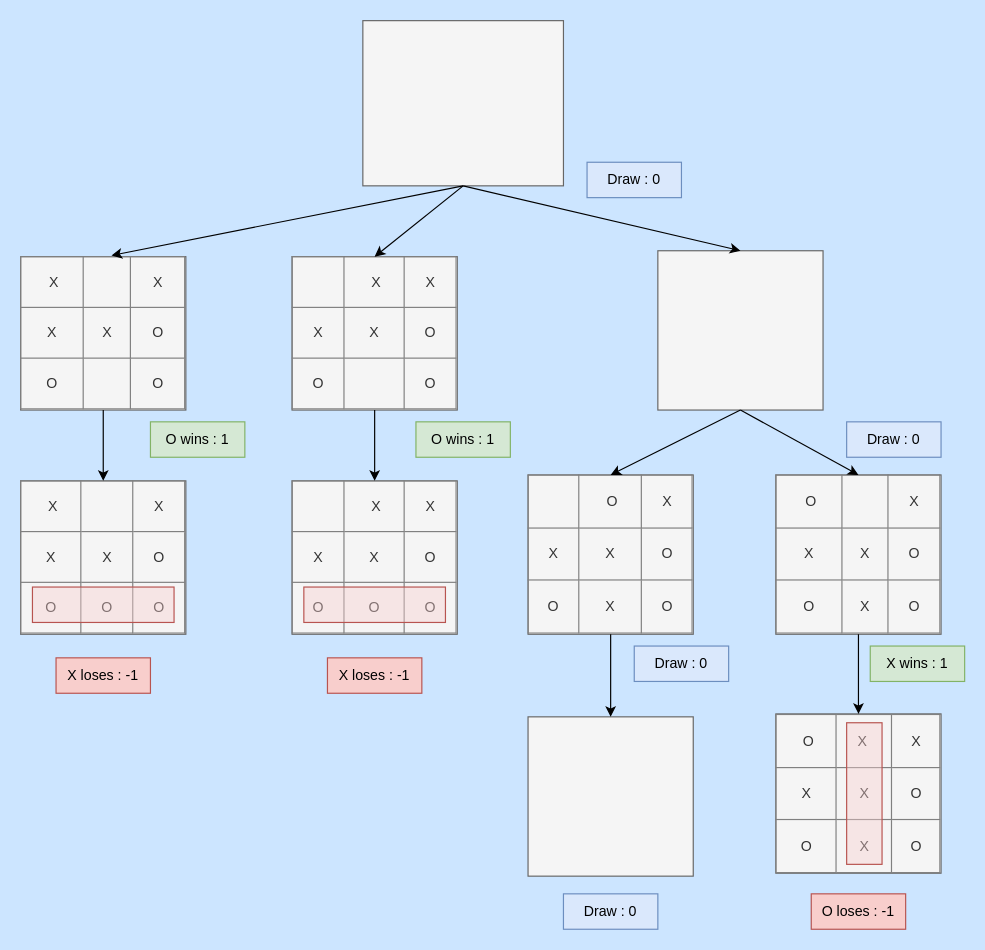
The diagram is 985 pixels wide and 950 high, and some of its shapes have lost their labels. Here are the shapes that lost their labels. From the top down, the centre of each, then its label:
point (462, 102): X X X O O O
point (740, 330): X X X O O X O
point (610, 796): X O X X X O O X O
